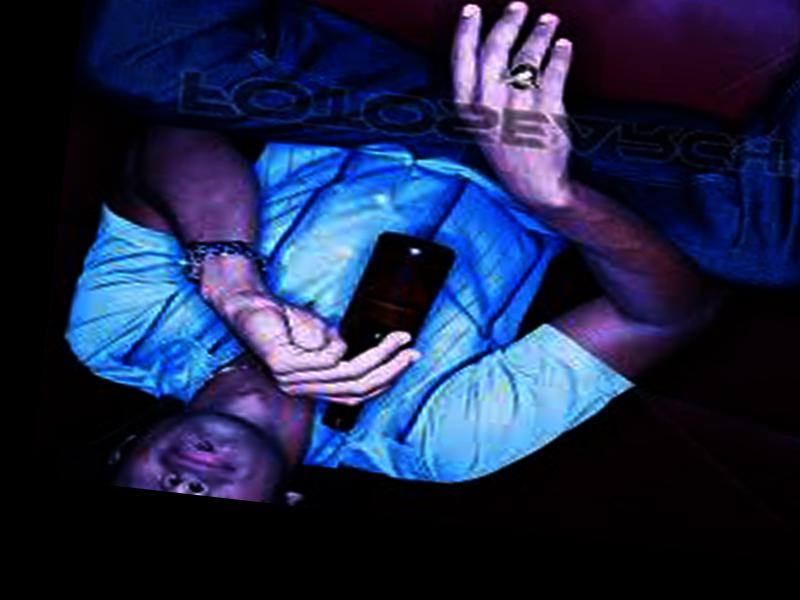Beer: (321, 228, 459, 442)
